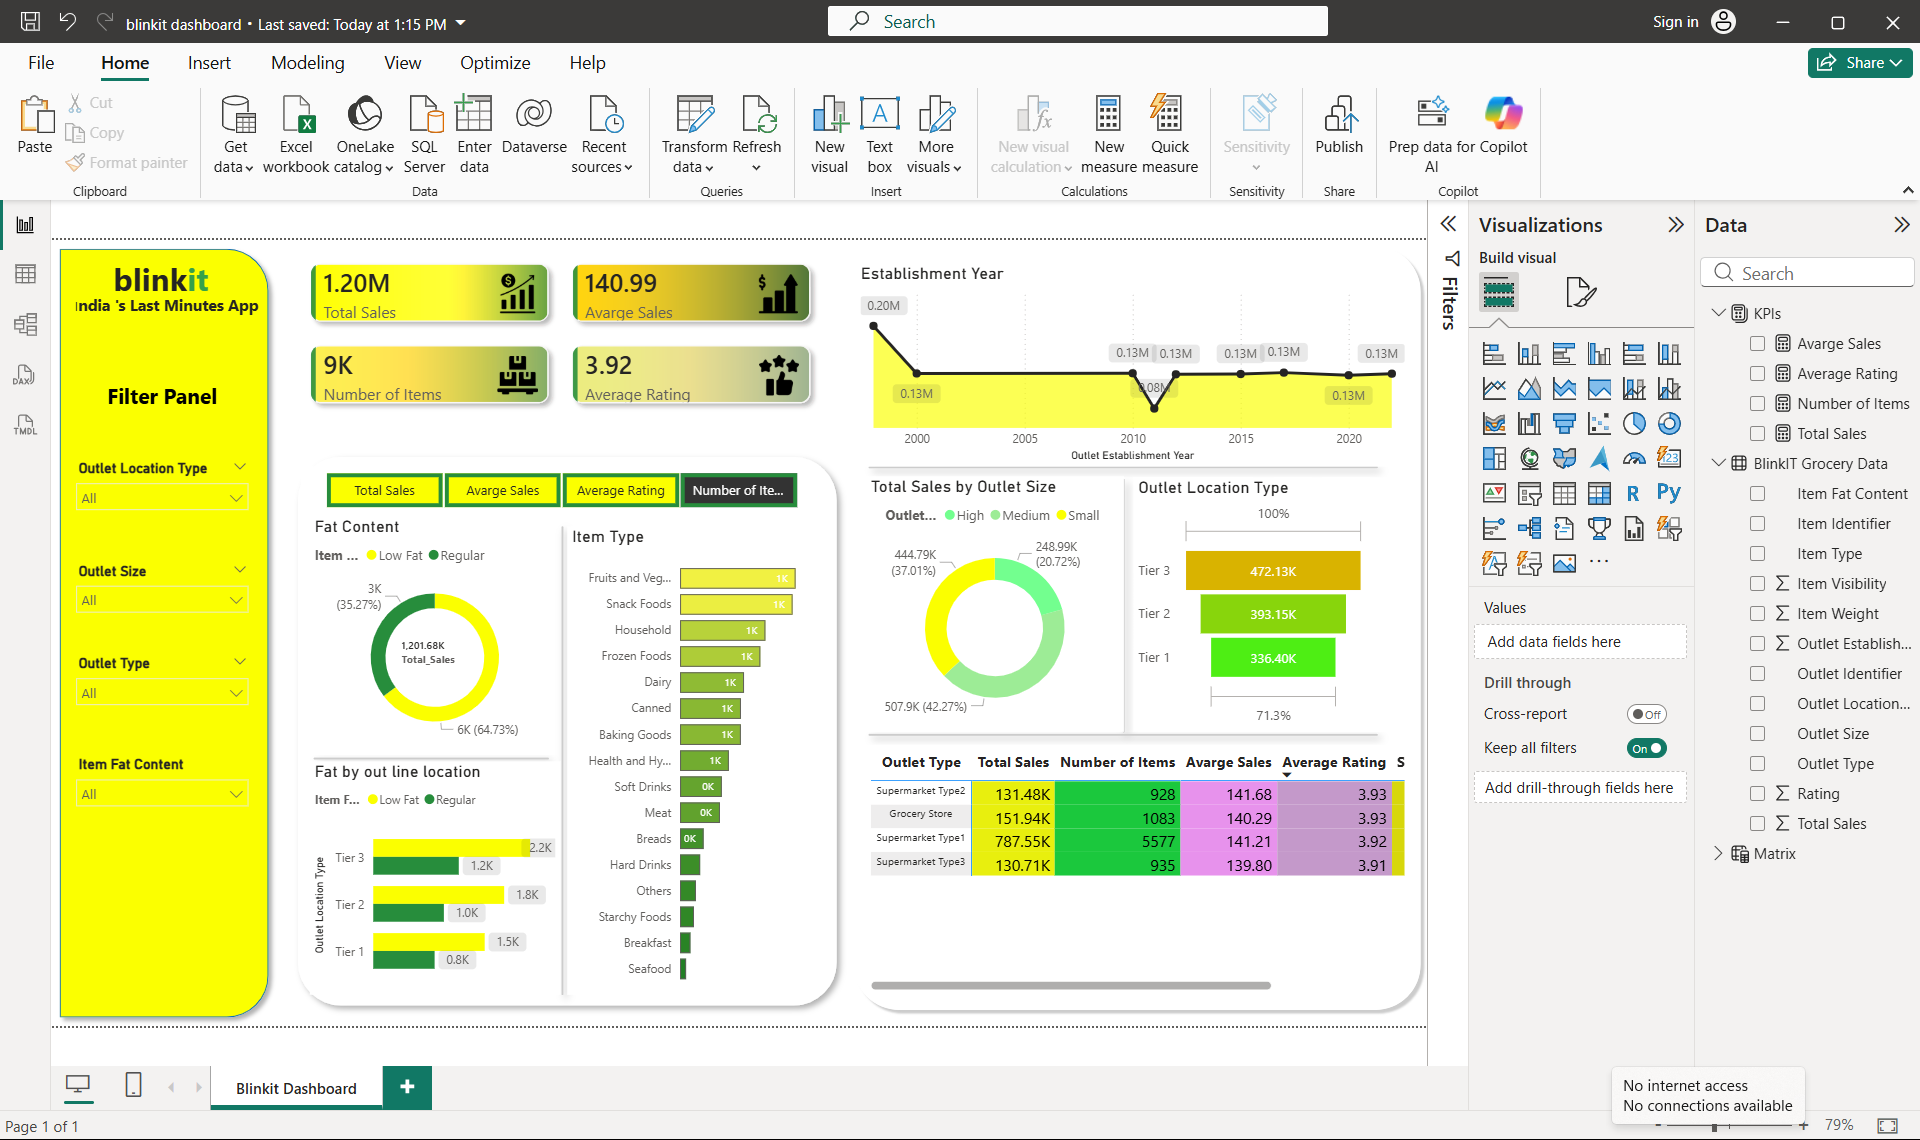

The page's visual inventory and layout, read from the dashboard file:
{"tool":"powerbi","page":{"name":"Blinkit Dashboard","canvas":[1400,800],"ordinal":0},"visuals":[{"type":"shape","box":[0,0,230.2,800],"z":0},{"type":"textbox","box":[22.9,12.7,169.2,61],"z":1000},{"type":"textbox","box":[15.3,49.6,204.8,47.1],"z":2000},{"type":"cardVisual","fields":{"Data":["KPIs.Total Sales","KPIs.Avarge","KPIs.Number of Items","KPIs.Average Rating"]},"box":[240,0,561.2,210],"z":3000},{"type":"shape","box":[810,0,590,790],"z":4000},{"type":"shape","box":[240,210,570,580],"z":5000},{"type":"donutChart","title":"Fat Content","fields":{"Y":["KPIs.Number of Items"],"Category":["BlinkIT Grocery Data.Item Fat Content"]},"box":[263.8,281.2,255,238.8],"z":6000},{"type":"slicer","fields":{"Values":["Matrix.Matrix"]},"box":[253.8,230,528.8,48.8],"z":7000},{"type":"shape","box":[253.8,513.8,265,26.2],"z":8000},{"type":"shape","box":[497.5,278.8,46.2,502.5],"z":9000},{"type":"shape","box":[818.8,217.5,543.8,23.8],"z":10000},{"type":"shape","box":[1067.5,230,48.8,283.8],"z":11000},{"type":"shape","box":[818.8,490,543.8,23.8],"z":12000},{"type":"clusteredBarChart","title":"Fat by out line location","fields":{"Y":["KPIs.Number of Items"],"Series":["BlinkIT Grocery Data.Item Fat Content"],"Category":["BlinkIT Grocery Data.Outlet Location Type"]},"box":[263.8,530,255,237.5],"z":13000},{"type":"barChart","title":"Item Type","fields":{"Y":["KPIs.Number of Items"],"Category":["BlinkIT Grocery Data.Item Type"]},"box":[525.3,291.2,258.2,476.9],"z":14000},{"type":"areaChart","title":" Establishment Year","fields":{"Y":["KPIs.Total Sales"],"Category":["BlinkIT Grocery Data.Outlet Establishment Year"]},"box":[819,24.2,563.4,206],"z":15000},{"type":"donutChart","fields":{"Y":["KPIs.Total Sales"],"Series":["BlinkIT Grocery Data.Outlet Size"]},"box":[828.8,240,262.5,260],"z":16000},{"type":"funnel","title":"Outlet Location Type","fields":{"Y":["KPIs.Total Sales"],"Category":["BlinkIT Grocery Data.Outlet Location Type"]},"box":[1101.2,241.2,241.2,258.8],"z":17000},{"type":"pivotTable","fields":{"Rows":["BlinkIT Grocery Data.Outlet Type"],"Values":["KPIs.Total Sales","KPIs.Number of Items","KPIs.Avarge Sales","KPIs.Average Rating","Sum(BlinkIT Grocery Data.Item Visibility)"]},"box":[829.2,513.8,553.2,254.4],"z":18000},{"type":"slicer","fields":{"Values":["BlinkIT Grocery Data.Outlet Location Type"]},"box":[15.3,218.8,195.9,72.5],"z":18001},{"type":"slicer","fields":{"Values":["BlinkIT Grocery Data.Outlet Size"]},"box":[15.3,323,195.9,72.5],"z":18002},{"type":"slicer","fields":{"Values":["BlinkIT Grocery Data.Outlet Type"]},"box":[15.3,417.2,195.9,72.5],"z":18003},{"type":"textbox","box":[21.6,138.6,183.1,43.2],"z":18004},{"type":"slicer","fields":{"Values":["BlinkIT Grocery Data.Item Fat Content"]},"box":[15.3,520.2,195.9,72.5],"z":18005},{"type":"cardVisual","fields":{"Data":["Sum(BlinkIT Grocery Data.Total Sales)"]},"box":[325.6,367.6,132.3,100.5],"z":18006}]}

Visuals, with their boxes on the page's 1400x800 design canvas (x1, y1, x2, y2). These are canvas units, not pixel positions in the 1920x1140 screenshot, which may show the page scaled, cropped or inside an application window:
shape: 0,0,230,800
textbox: 23,13,192,74
textbox: 15,50,220,97
cardVisual - KPIs.Total Sales x KPIs.Avarge: 240,0,801,210
shape: 810,0,1400,790
shape: 240,210,810,790
"Fat Content" donutChart: 264,281,519,520
slicer - Matrix.Matrix: 254,230,783,279
shape: 254,514,519,540
shape: 498,279,544,781
shape: 819,218,1363,241
shape: 1068,230,1116,514
shape: 819,490,1363,514
"Fat by out line location" clusteredBarChart: 264,530,519,768
"Item Type" barChart: 525,291,784,768
" Establishment Year" areaChart: 819,24,1382,230
donutChart - KPIs.Total Sales x BlinkIT Grocery Data.Outlet Size: 829,240,1091,500
"Outlet Location Type" funnel: 1101,241,1342,500
pivotTable - BlinkIT Grocery Data.Outlet Type x KPIs.Total Sales: 829,514,1382,768
slicer - BlinkIT Grocery Data.Outlet Location Type: 15,219,211,291
slicer - BlinkIT Grocery Data.Outlet Size: 15,323,211,396
slicer - BlinkIT Grocery Data.Outlet Type: 15,417,211,490
textbox: 22,139,205,182
slicer - BlinkIT Grocery Data.Item Fat Content: 15,520,211,593
cardVisual - Sum(BlinkIT Grocery Data.Total Sales): 326,368,458,468
